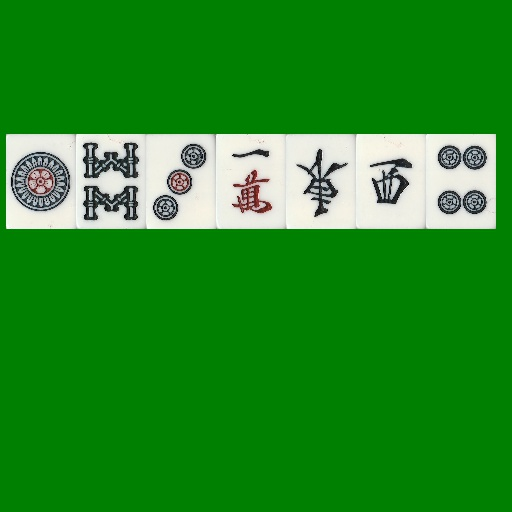1m: (216, 134, 286, 229)
1p: (6, 134, 76, 229)
3p: (146, 134, 216, 229)
4p: (426, 134, 496, 229)
8s: (76, 134, 146, 229)
east: (286, 134, 356, 229)
west: (356, 134, 426, 229)
